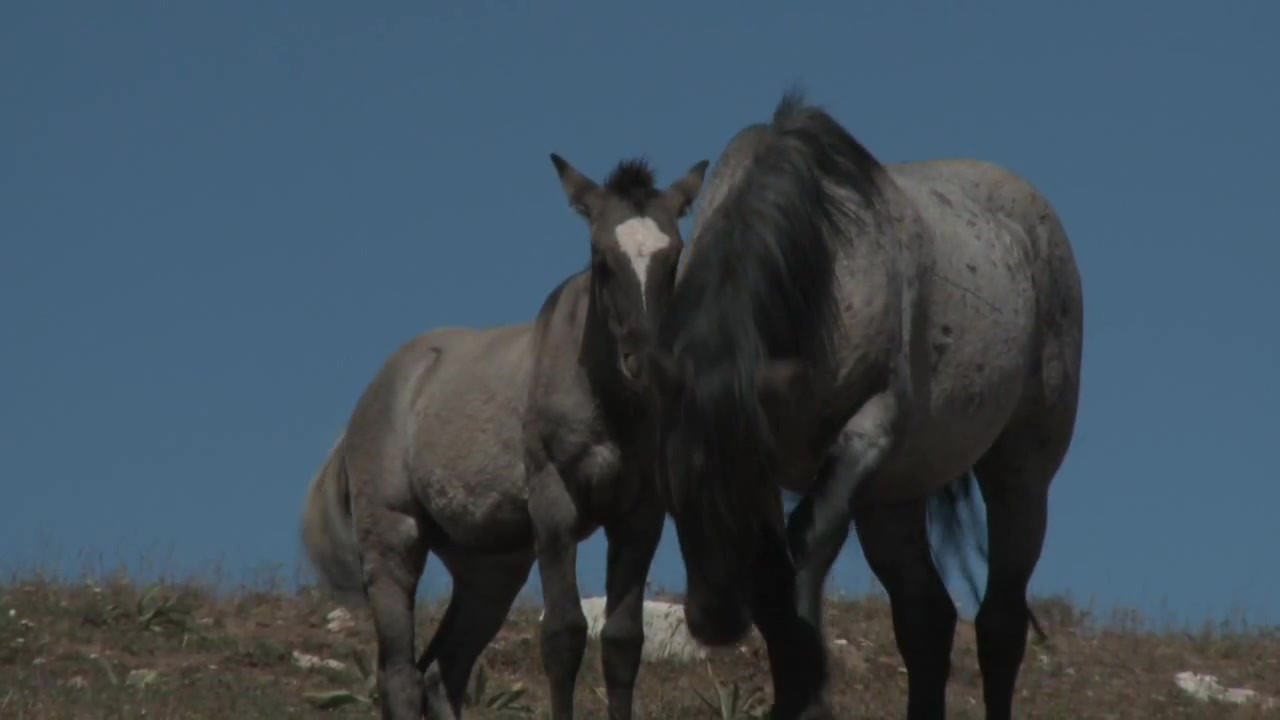horse: (656, 82, 1088, 720), (299, 149, 714, 720)
